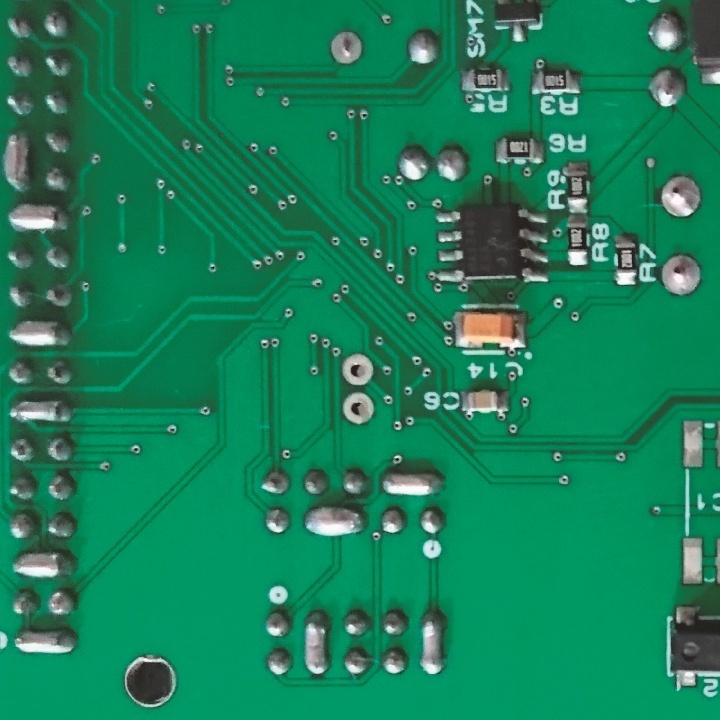F: (657, 170, 704, 220), (658, 252, 702, 298), (339, 389, 376, 428), (339, 349, 375, 387), (328, 29, 364, 66)
P: (4, 201, 75, 238), (6, 317, 78, 353), (12, 623, 81, 659), (301, 503, 366, 539), (380, 466, 447, 500), (10, 548, 81, 580), (7, 396, 75, 429), (418, 607, 448, 678), (1, 129, 33, 195), (302, 609, 331, 680)
